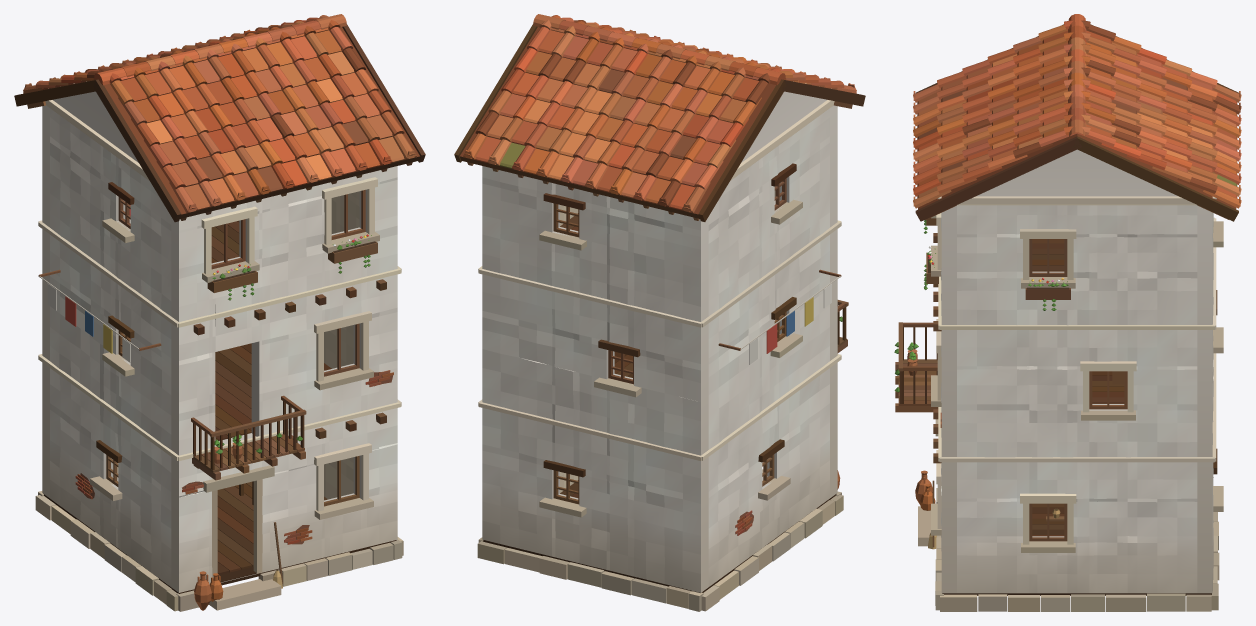
Rendered from pleb_1_3.glb.
The picture shows the model from 3 angles, left to right: view 1: azimuth 30°, elevation 25°; view 2: azimuth 150°, elevation 25°; view 3: azimuth 270°, elevation 25°; orthographic projection.
Visible parts, largest first — view 1: Walls, House, Rooms; view 2: Walls, House, Rooms; view 3: Walls, House, Rooms.
Boxes of the visible parts, box(x1,y1,x2,y2) form: Walls: box(42, 91, 397, 592); House: box(14, 14, 425, 611); Rooms: box(117, 191, 359, 574); Walls: box(482, 91, 837, 592); House: box(454, 14, 865, 611); Rooms: box(560, 186, 775, 497); Walls: box(941, 149, 1213, 593); House: box(894, 14, 1241, 611); Rooms: box(1032, 239, 1124, 536).
Size of the model in its own units: 4.22 by 7.68 by 5.
Materials: 5 (5 with a texture image).
